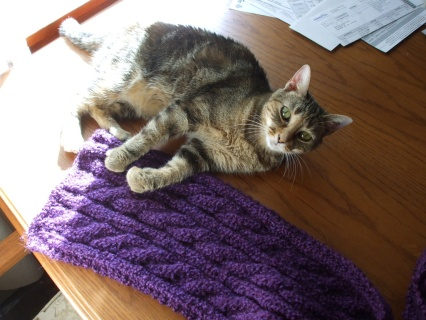Cat: (55, 14, 354, 196)
